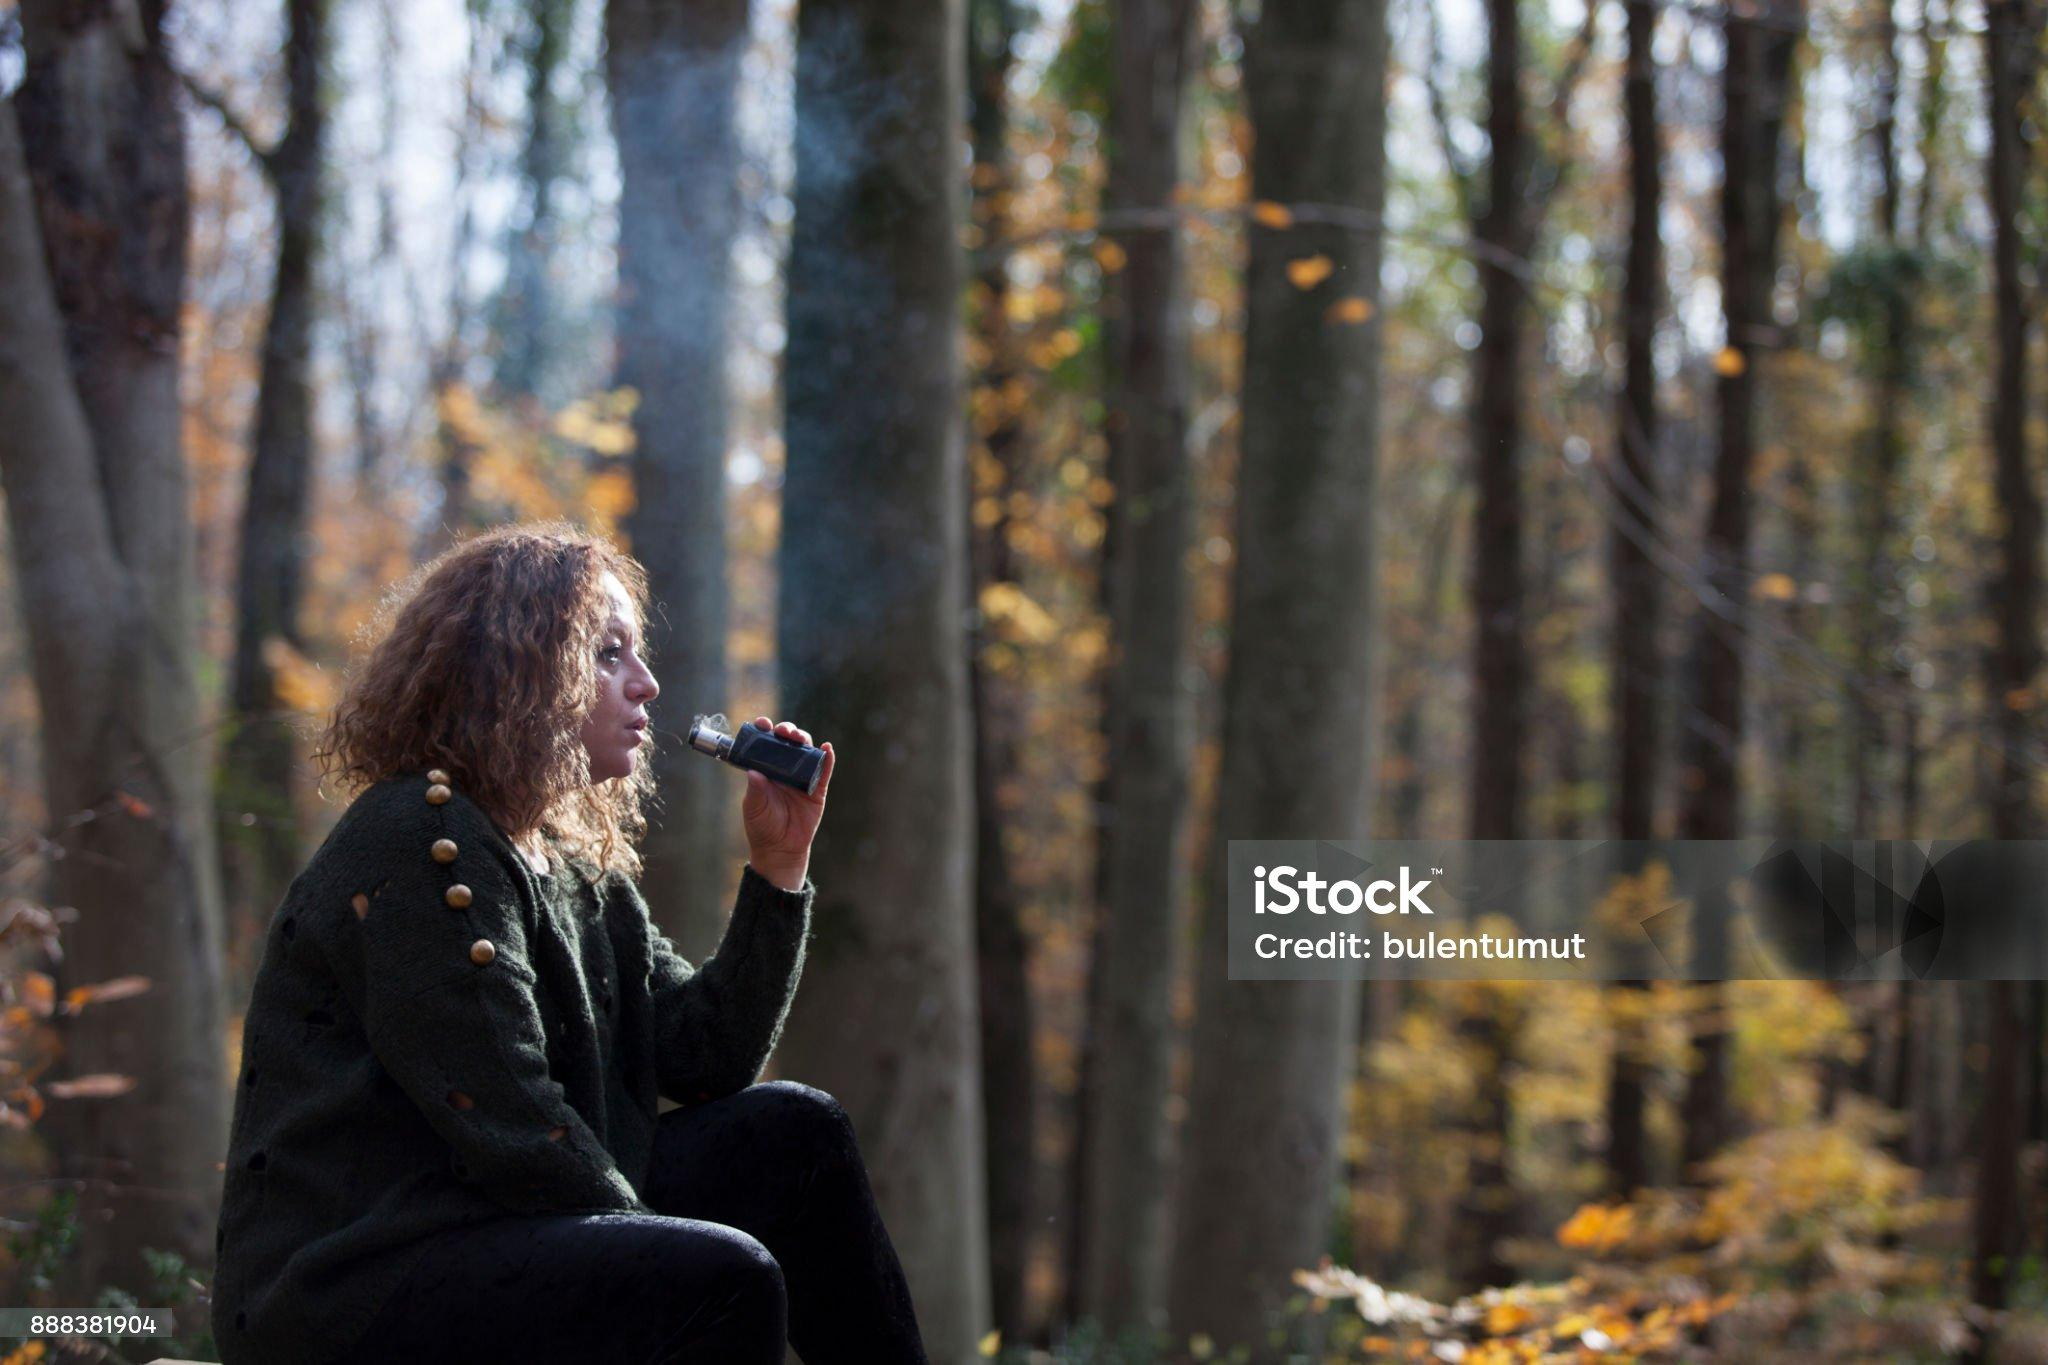Vape: (688, 722, 828, 797)
